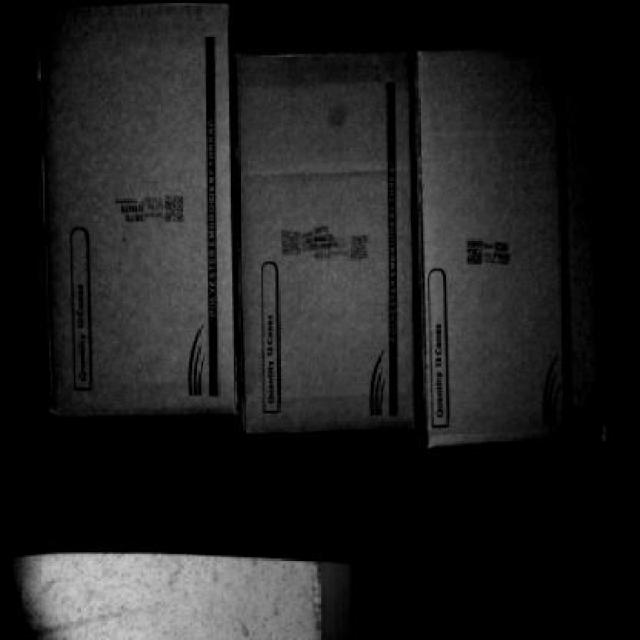cardboxes: (33, 1, 242, 417), (422, 46, 608, 443), (240, 49, 418, 434)
